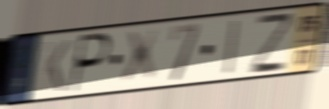7: (168, 20, 203, 84)
I: (223, 17, 242, 78)
K: (36, 38, 74, 94)
P: (67, 31, 113, 96)
X: (120, 26, 162, 89)
Z: (248, 12, 294, 77)
